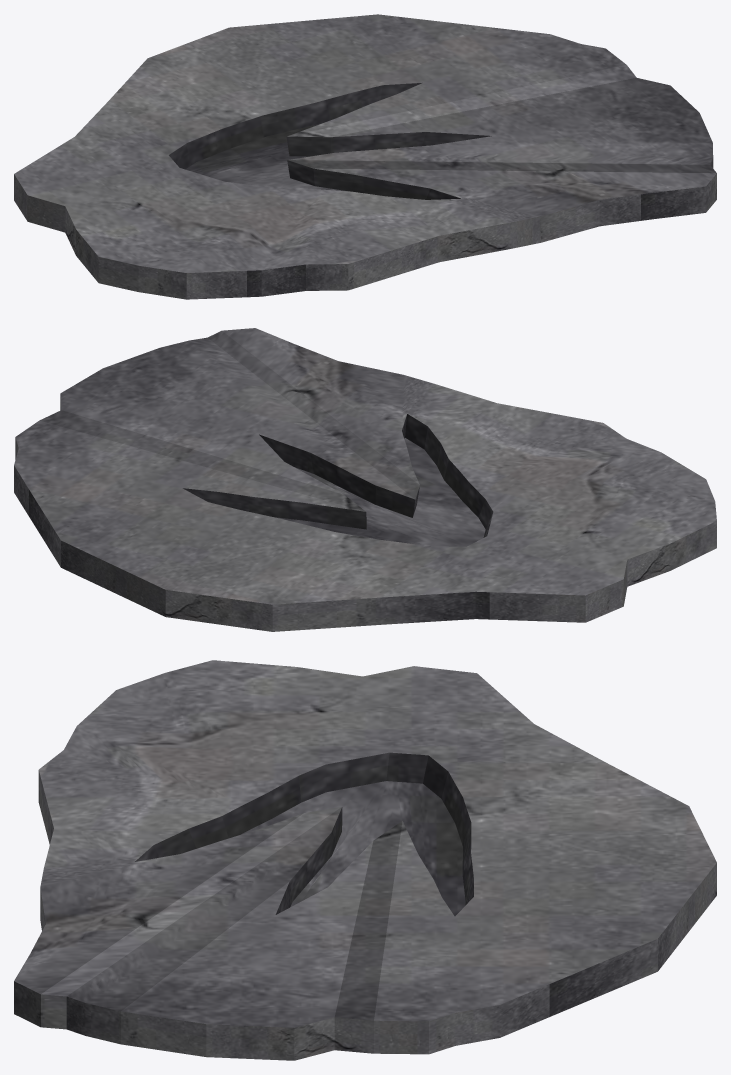
The model's file is huella.obj.
3 views of the same model, one above another, from view 1: azimuth 30°, elevation 25°; view 2: azimuth 150°, elevation 25°; view 3: azimuth 270°, elevation 25° (orthographic). The views are drawn at different scales.
Visible parts, largest first — view 1: Cylinder.001; view 2: Cylinder.001; view 3: Cylinder.001.
Boxes of the visible parts, x1,y1,x2,y2 form: Cylinder.001: (14,14,716,299); Cylinder.001: (14,328,716,631); Cylinder.001: (14,660,716,1060).
Size of the model in its own units: 8.16 by 0.3419 by 6.6.
